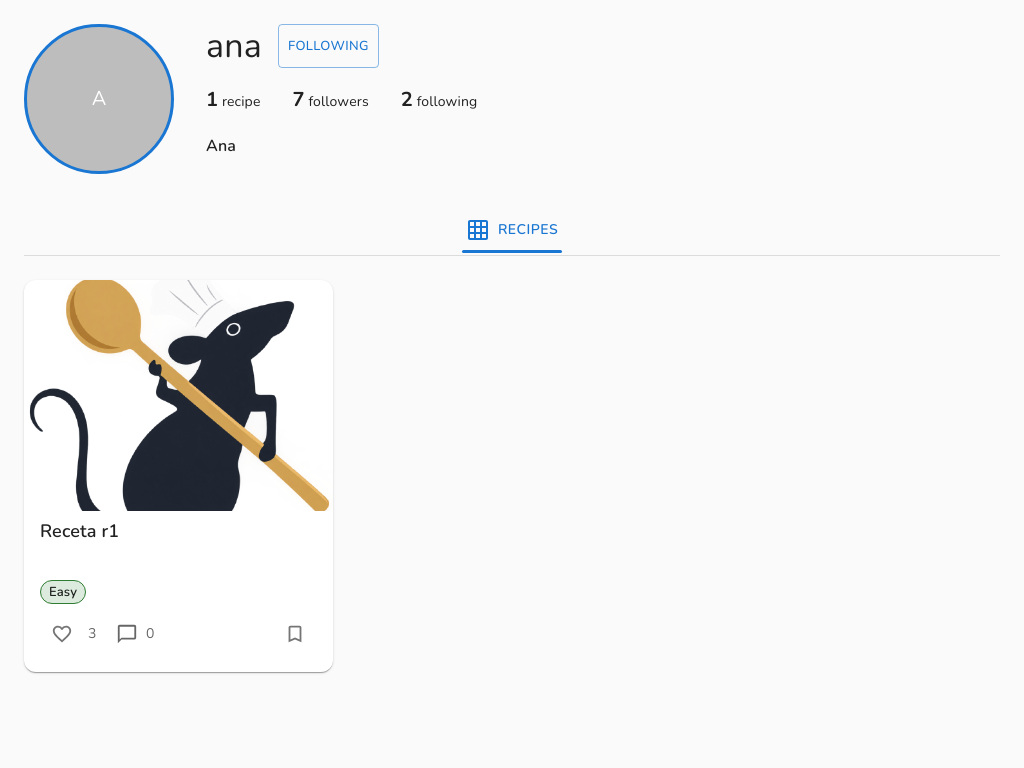
the profile page › following a private account › asks before unfollowing, and puts the lock back once it is done
The image size is (1024, 768).
What coordinates should you click on to do the following:
click the button "Following"
I would click on:
 (328, 46)
Its box is [278,24,379,68].
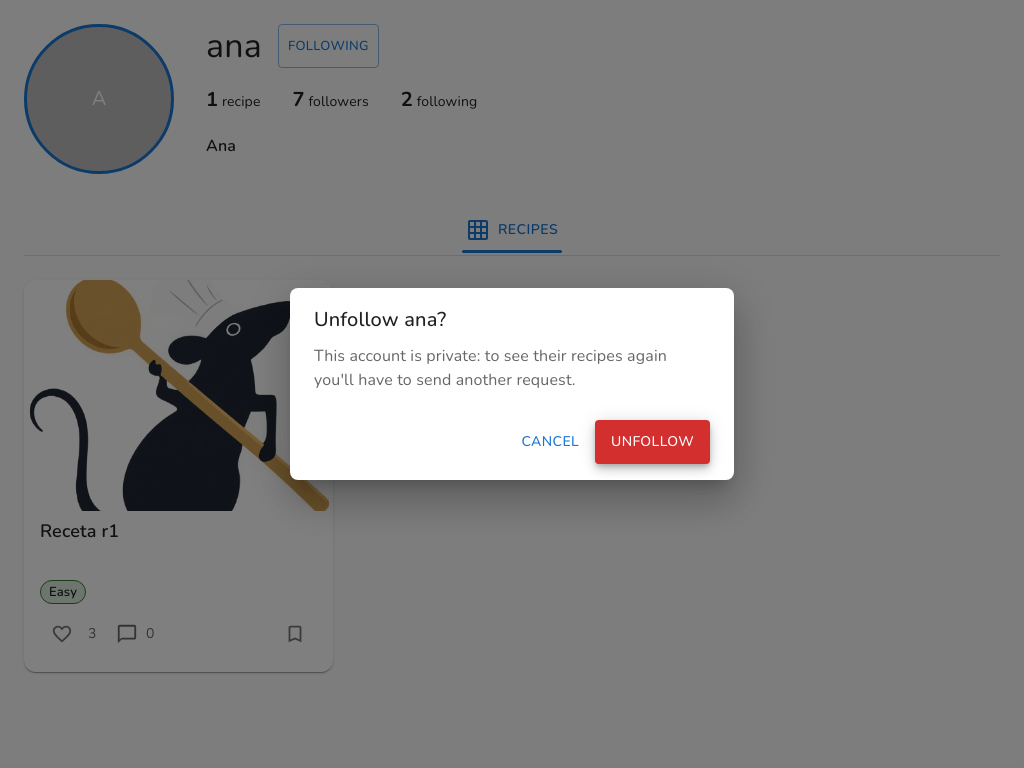
Now the text "This account is private: to see their recipes again you'll have to send another request." is shown, box [314,345,667,391]
What coordinates should you click on to do the following:
click the button "Unfollow"
I would click on:
 (653, 442)
Its box is [595,420,710,464].
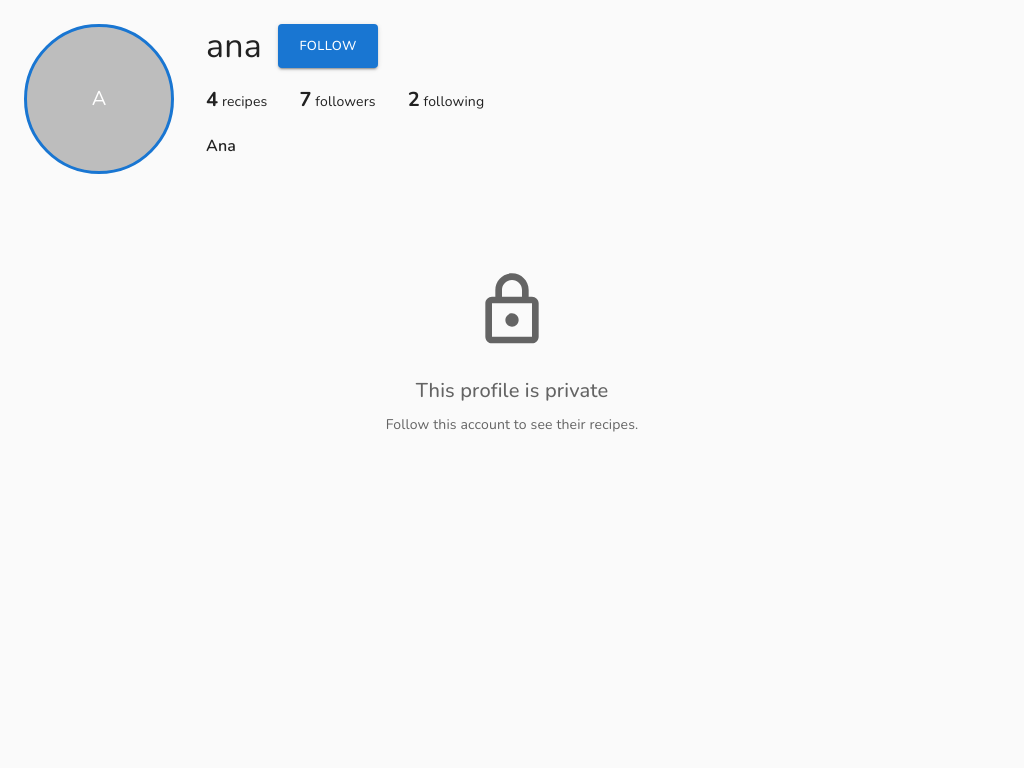
Expected: the button "Follow" is shown, [278,24,378,68]
Now the heading "This profile is private" is shown, box [416,377,608,404]
Now the link "Receta r1" is gone
